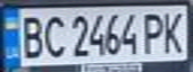2: (66, 11, 90, 58)
4: (118, 10, 142, 55), (87, 10, 106, 56)
6: (103, 10, 124, 56)
B: (15, 11, 48, 60)
C: (39, 11, 69, 60)
K: (157, 8, 190, 54)
P: (139, 9, 169, 55)
